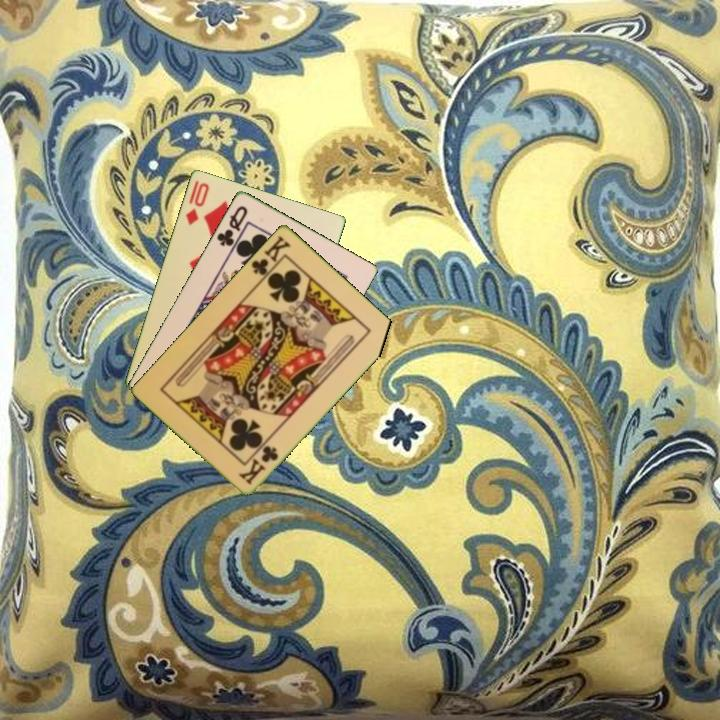10d: (182, 179, 212, 228)
Kc: (247, 232, 294, 284), (235, 441, 281, 488)
Qc: (213, 202, 250, 249)
